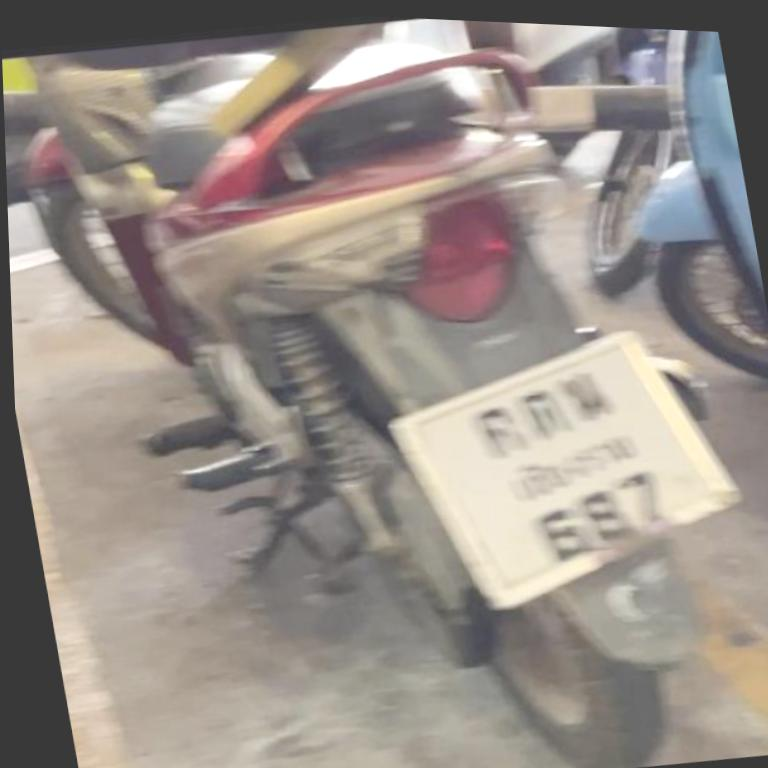license plate: (370, 303, 768, 638)
